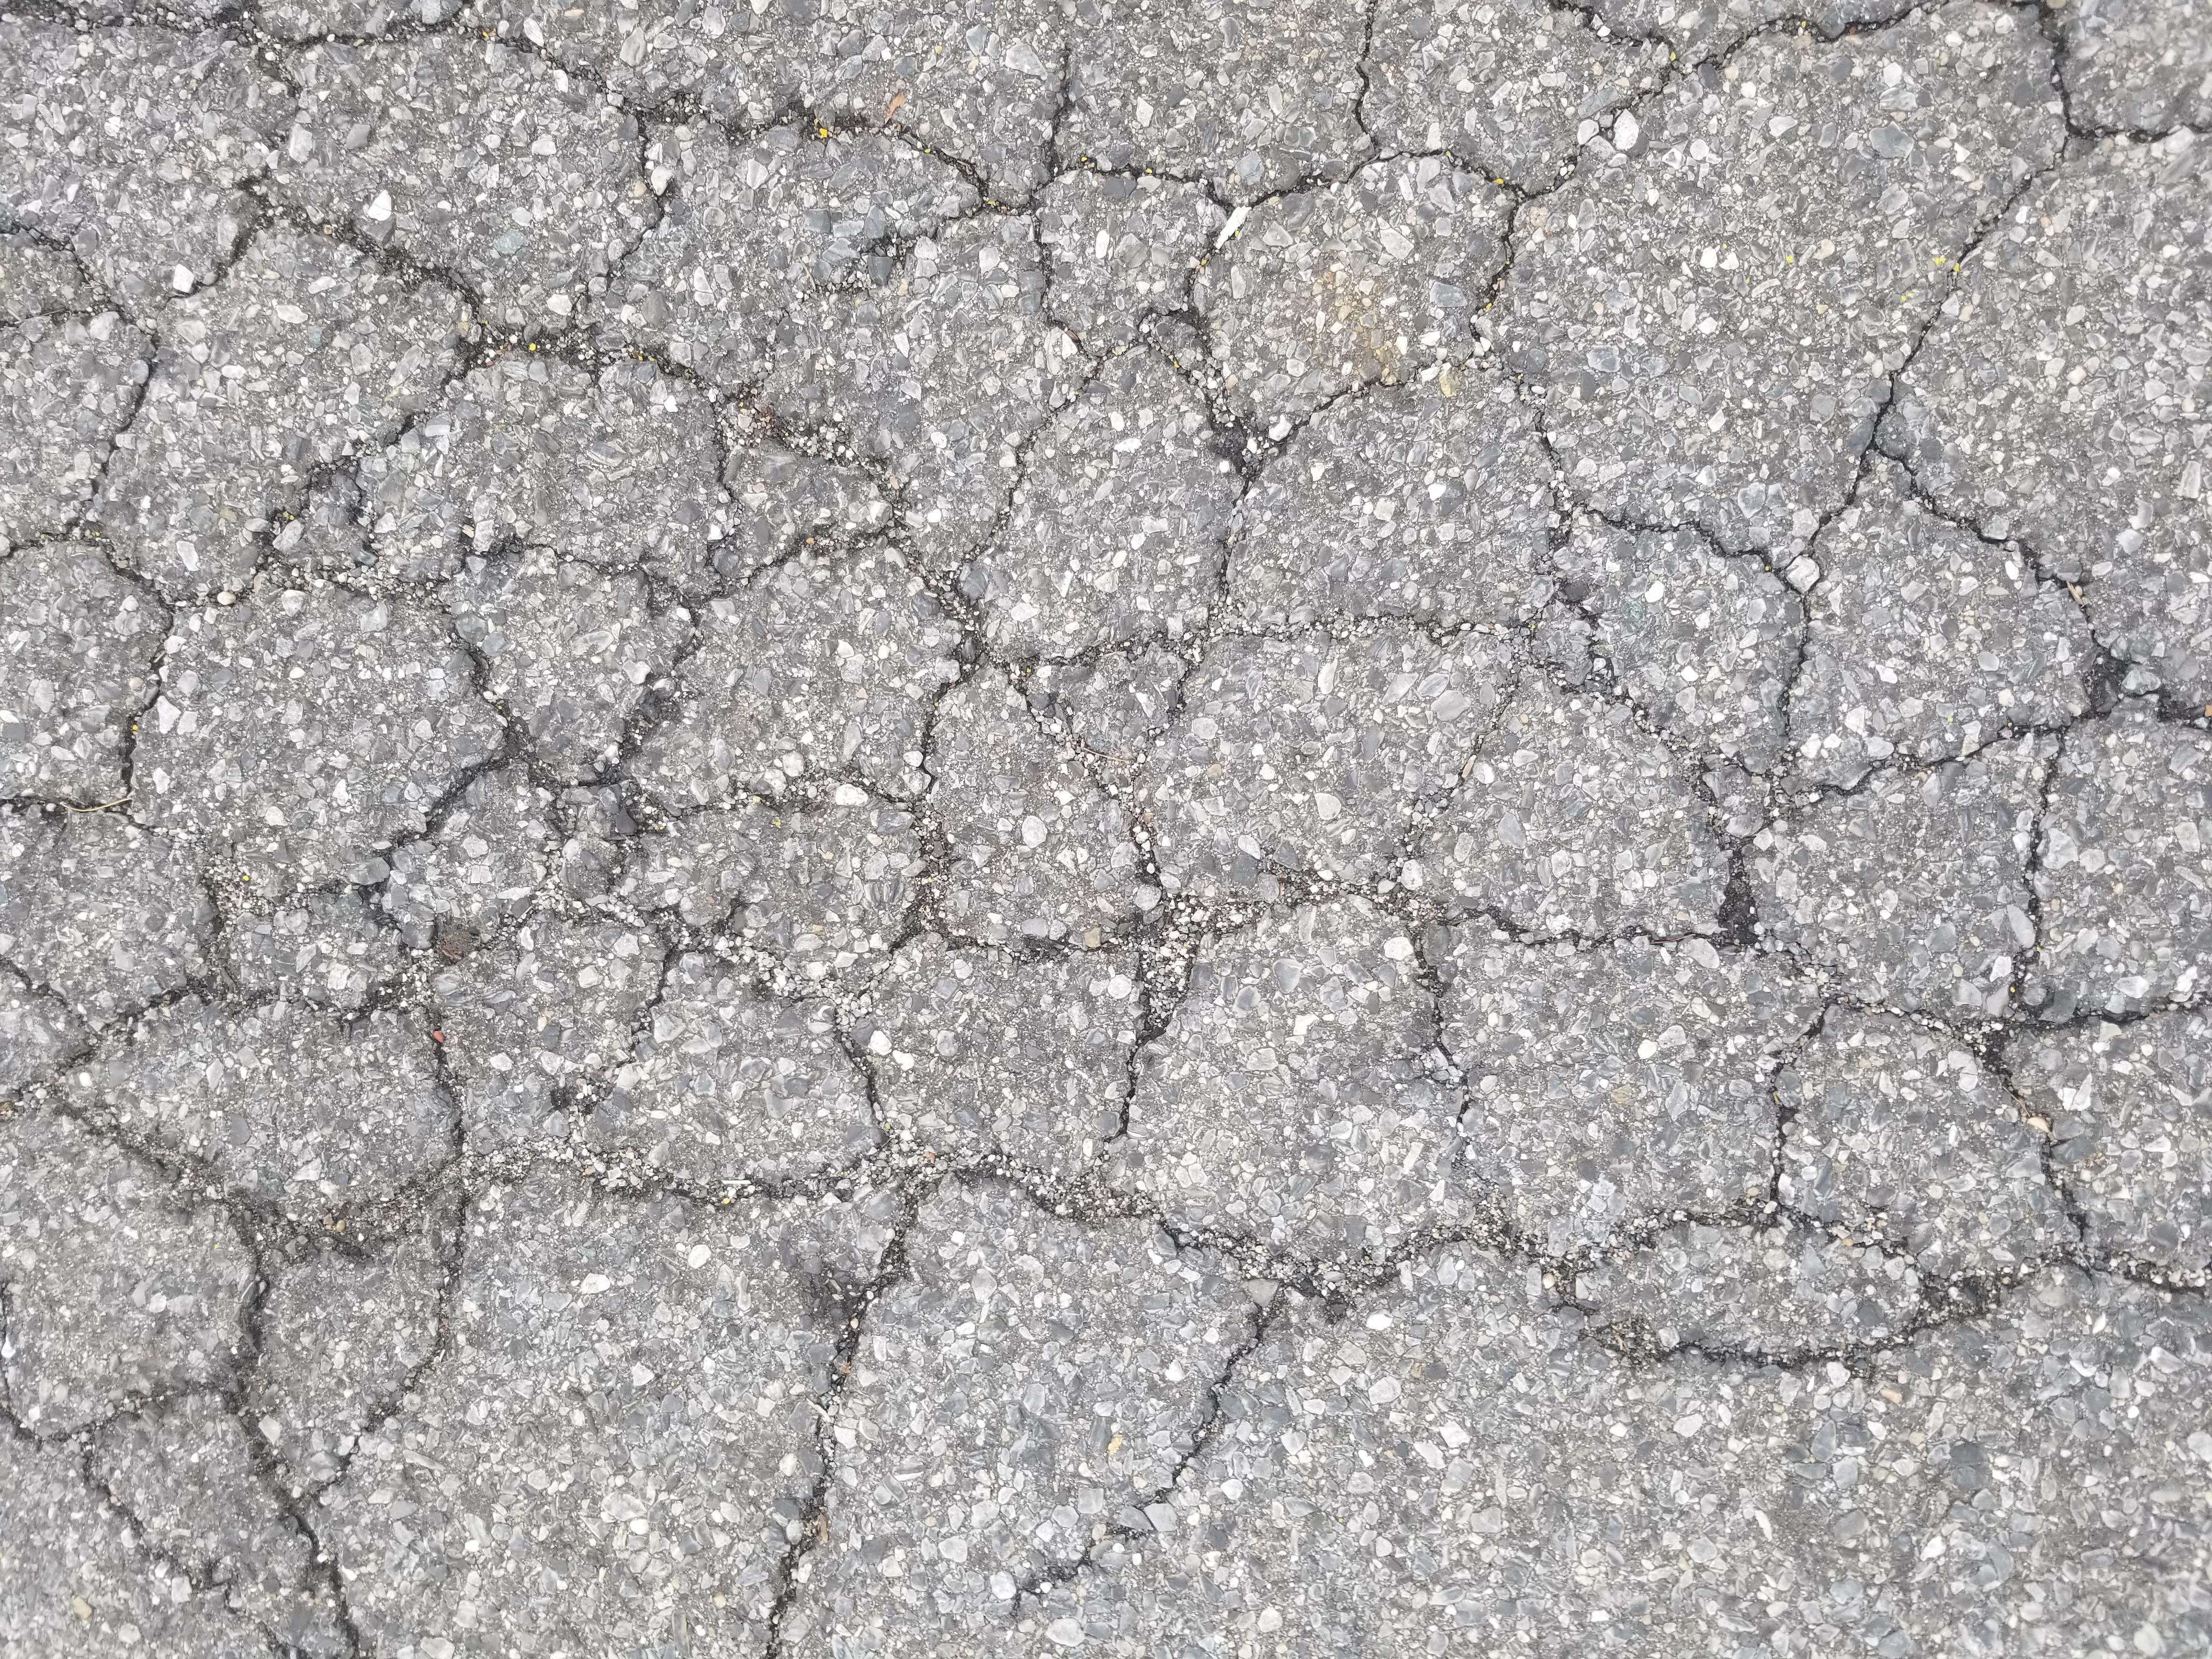alligator-crack: (16, 17, 2212, 1659)
